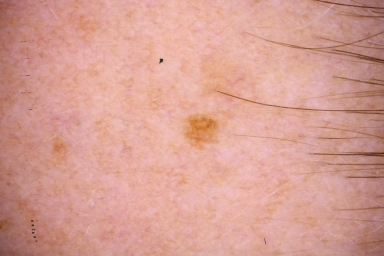melanoma: (187, 115, 219, 148)
